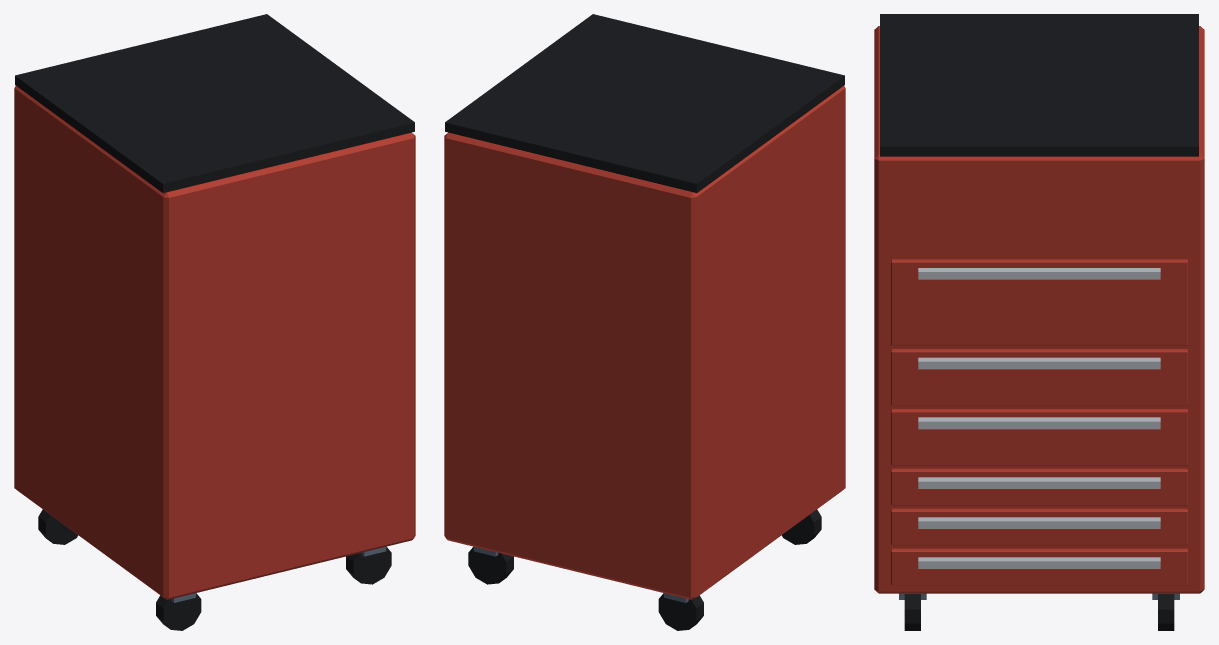
The model's file is tool_chest.glb.
3 views of the same model, side by side, from view 1: azimuth 30°, elevation 25°; view 2: azimuth 150°, elevation 25°; view 3: azimuth 270°, elevation 25° (orthographic). The views are drawn at different scales.
Visible parts, largest first — view 1: tool_chest; view 2: tool_chest; view 3: tool_chest.
Part boxes in pixels (x1,y1,x2,y2): tool_chest: (14,14,415,630); tool_chest: (444,14,845,630); tool_chest: (874,14,1204,630).
Bounding box in the file's own units: 0.6 × 1 × 0.6.
